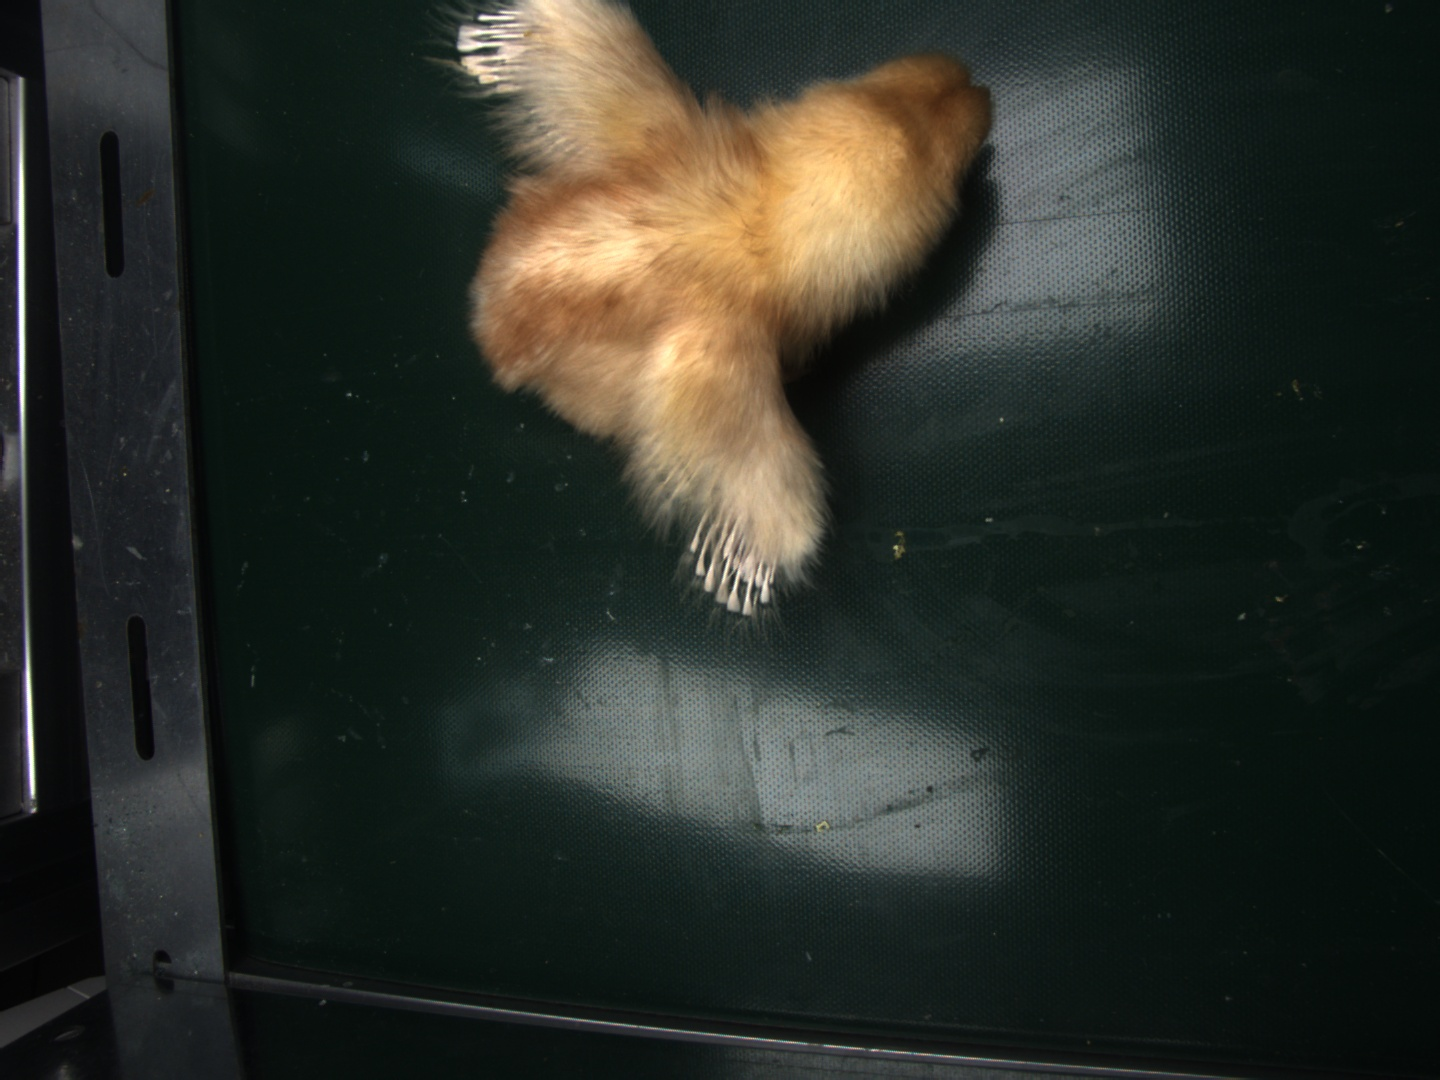female: (685, 511, 781, 616)
